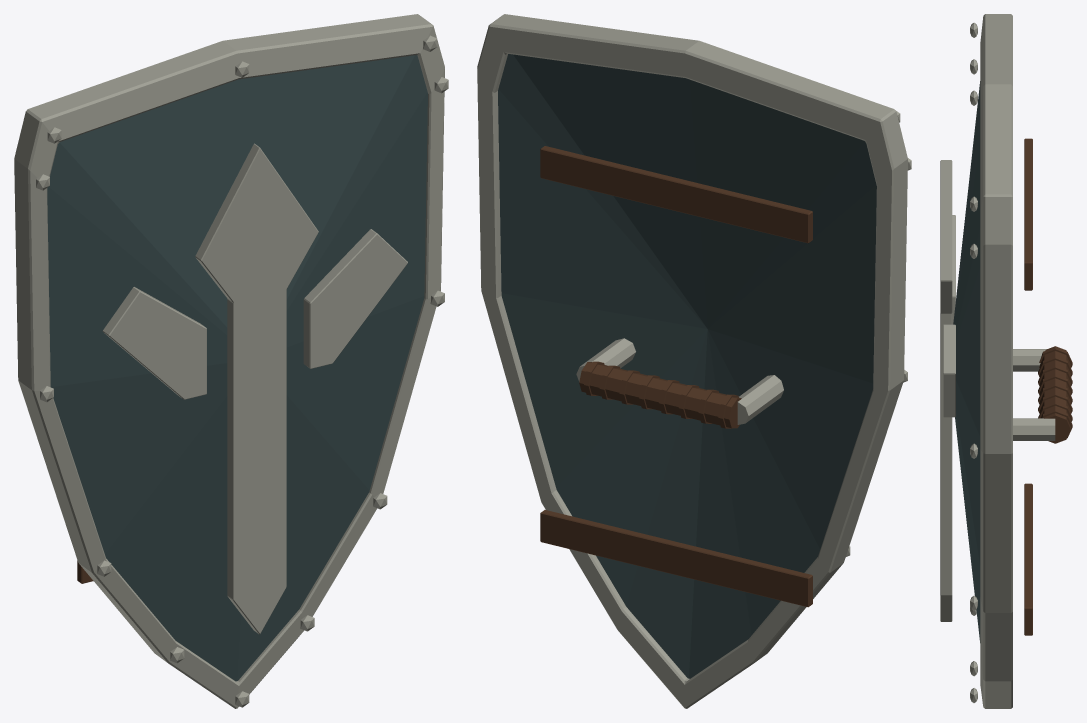
The picture shows the model from 3 angles, left to right: view 1: azimuth 30°, elevation 25°; view 2: azimuth 150°, elevation 25°; view 3: azimuth 270°, elevation 25°; orthographic projection. The views are drawn at different scales.
Parts seen in each view (by area): view 1: BastionShield; view 2: BastionShield; view 3: BastionShield.
Boxes of the visible parts, <box> form: BastionShield: <box>14,14,448,708</box>; BastionShield: <box>477,14,911,708</box>; BastionShield: <box>940,14,1072,708</box>.
Bounding box in the file's own units: 0.5278 × 0.7955 × 0.153.
